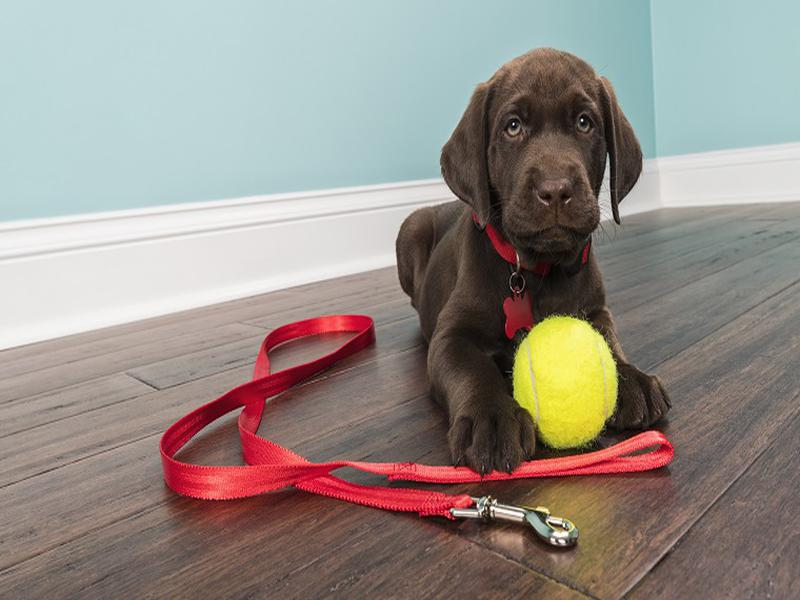dog_down: (390, 47, 676, 473)
